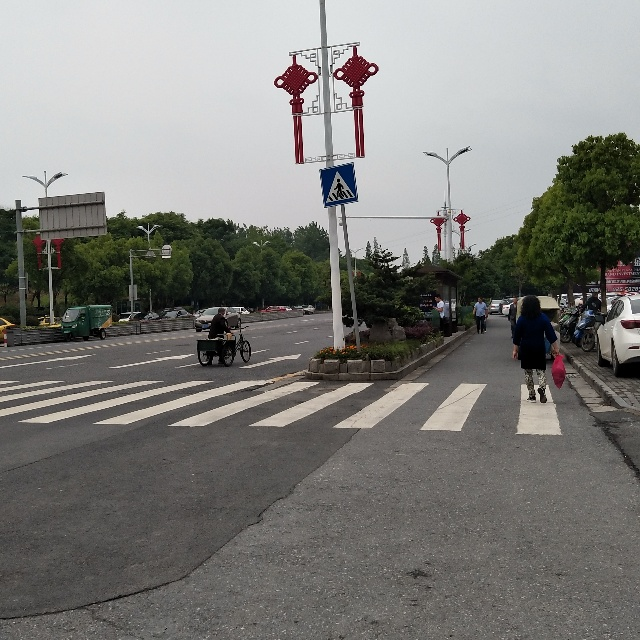crosswalk: (321, 166, 356, 204)
